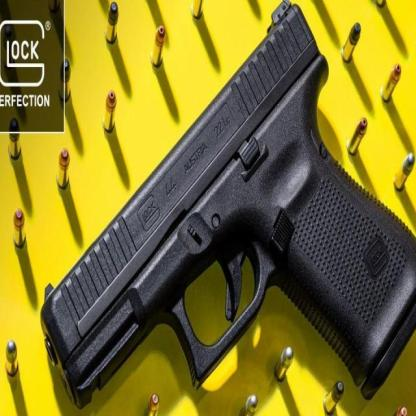handgun: (37, 0, 415, 400)
